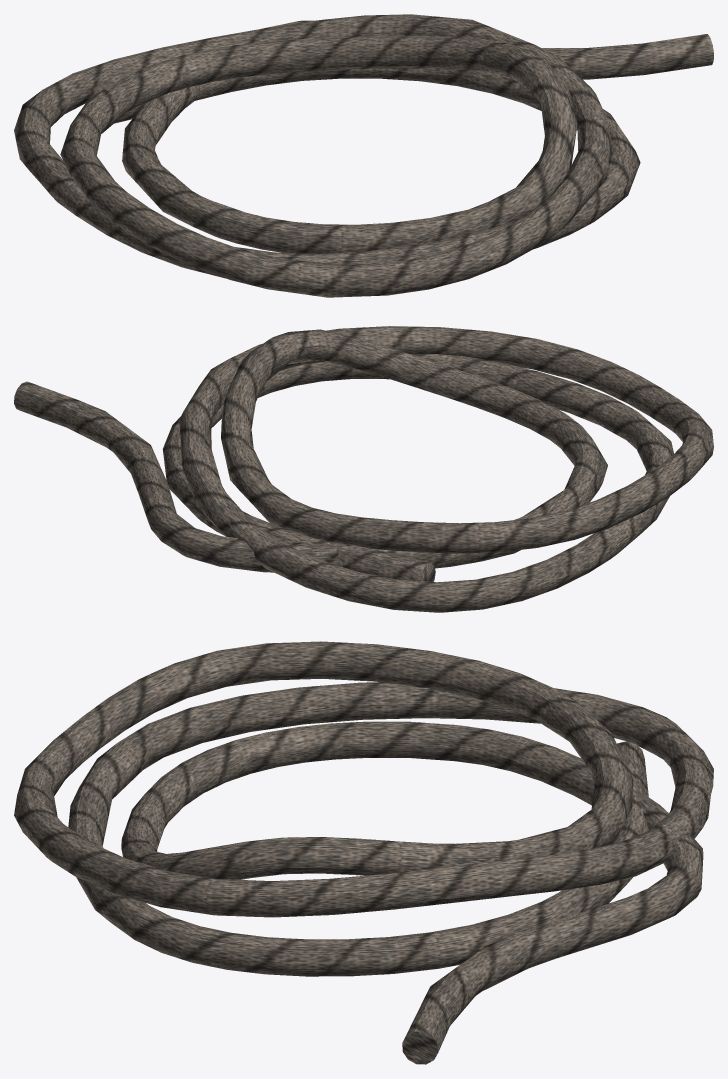
Rendered from SM_Rope_Bundle_01.fbx.
3 views of the same model, one above another, from view 1: azimuth 30°, elevation 25°; view 2: azimuth 150°, elevation 25°; view 3: azimuth 270°, elevation 25° (orthographic). The views are drawn at different scales.
Parts seen in each view (by area): view 1: SM_Rope_Bundle_01_LOD0; view 2: SM_Rope_Bundle_01_LOD0; view 3: SM_Rope_Bundle_01_LOD0.
Boxes of the visible parts, x1,y1,x2,y2 form: SM_Rope_Bundle_01_LOD0: [14, 14, 713, 297]; SM_Rope_Bundle_01_LOD0: [14, 326, 713, 612]; SM_Rope_Bundle_01_LOD0: [14, 641, 713, 1064].
Size of the model in its own units: 95.1 by 77.53 by 12.87.
1 material, 1 textured.
